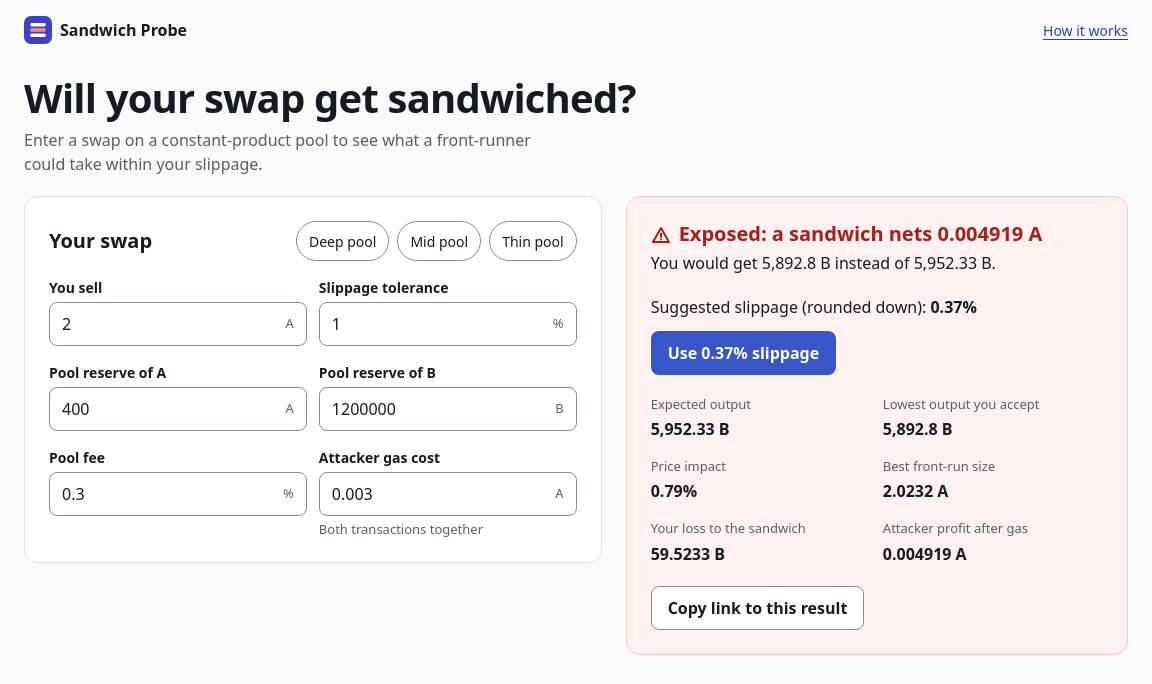
Scenario: App › applies the safe slippage and turns the verdict safe
Click the button "Use 0.37% slippage" at {"x": 743, "y": 353}, box [651, 331, 836, 375]
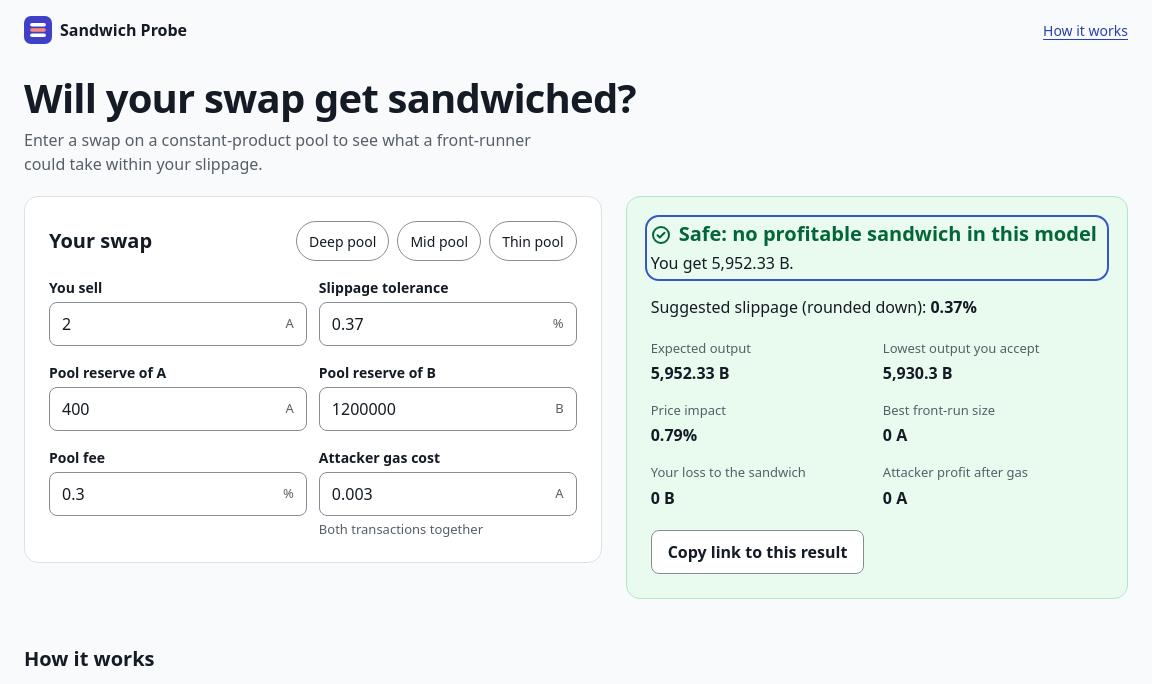
Expected: the field named "Slippage tolerance (percent)" holds "0.37", [320, 304, 553, 344]
Expected: the message shows "Safe: no profitable sandwich in this model", [679, 220, 1097, 247]
Expected: the button "Use 0.37% slippage" is gone
